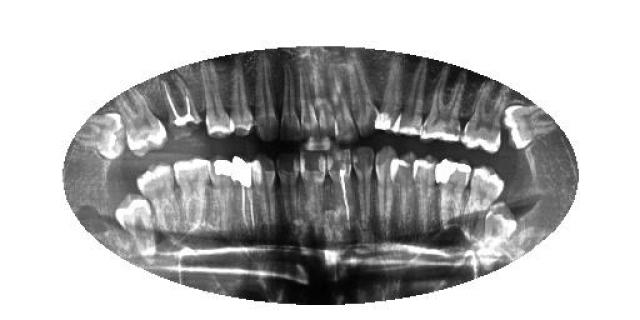Cavity: (159, 78, 201, 144), (298, 150, 328, 234), (276, 150, 299, 229)
Fillings: (434, 159, 471, 230), (375, 56, 404, 136), (214, 159, 235, 226)
Implant: (162, 76, 202, 144), (232, 155, 258, 234)
Restorations: (70, 114, 130, 161), (500, 106, 559, 152)
